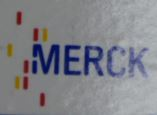Merck: (7, 9, 149, 108)
